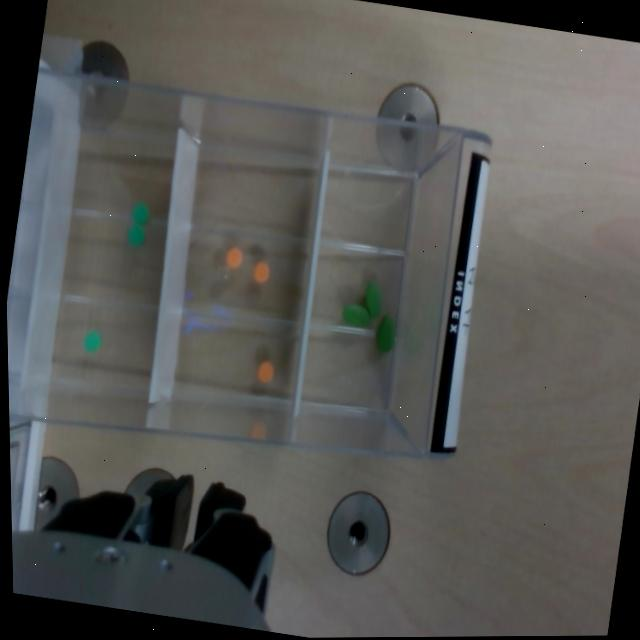famodine: (131, 199, 150, 225), (81, 329, 100, 352), (127, 222, 145, 245)
otillen_tab: (373, 313, 397, 354), (339, 301, 371, 327), (375, 314, 395, 351), (363, 281, 383, 316), (363, 280, 381, 318), (342, 302, 370, 326)
samsung_octylonium_tab: (255, 358, 275, 382), (250, 259, 270, 282), (224, 245, 242, 269)
